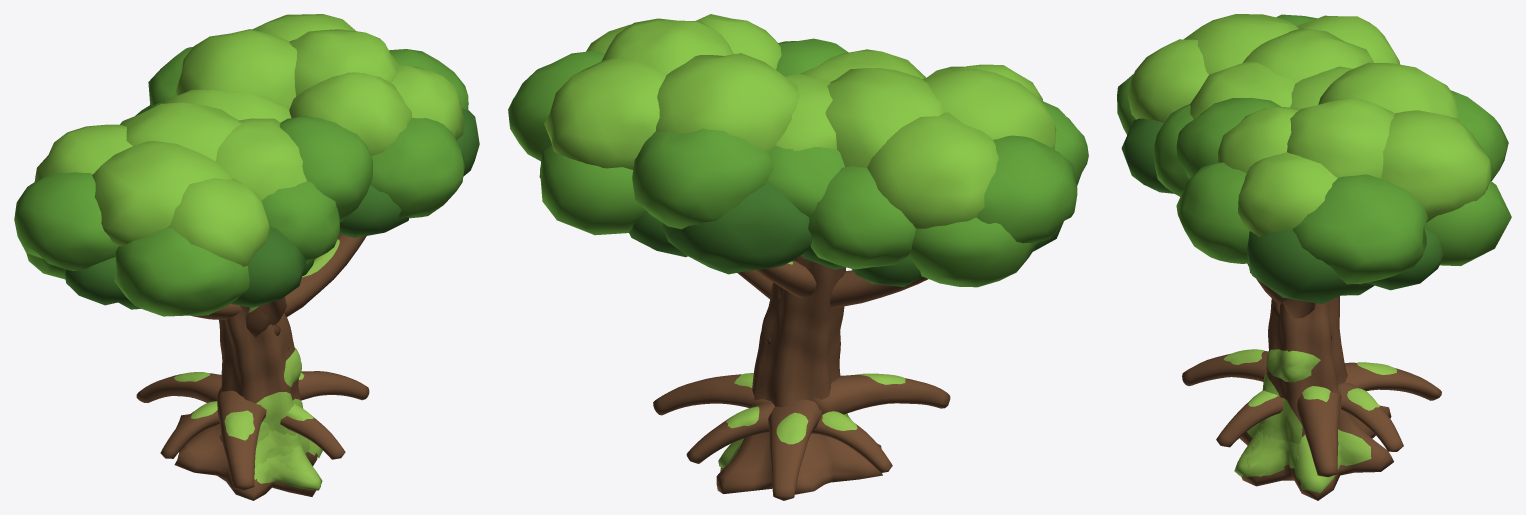
The model's file is arbol_musgoso_v05_lod0.glb.
The picture shows the model from 3 angles, left to right: view 1: azimuth 30°, elevation 25°; view 2: azimuth 150°, elevation 25°; view 3: azimuth 270°, elevation 25°; orthographic projection. The views are drawn at different scales.
Visible parts, largest first — view 1: Arbol_musgoso_v05_LOD0; view 2: Arbol_musgoso_v05_LOD0; view 3: Arbol_musgoso_v05_LOD0.
Part boxes in pixels (x1,y1,x2,y2): Arbol_musgoso_v05_LOD0: (14, 14, 479, 500); Arbol_musgoso_v05_LOD0: (508, 14, 1088, 500); Arbol_musgoso_v05_LOD0: (1117, 14, 1511, 500).
Bounding box in the file's own units: 58.13 × 48.6 × 42.14.
